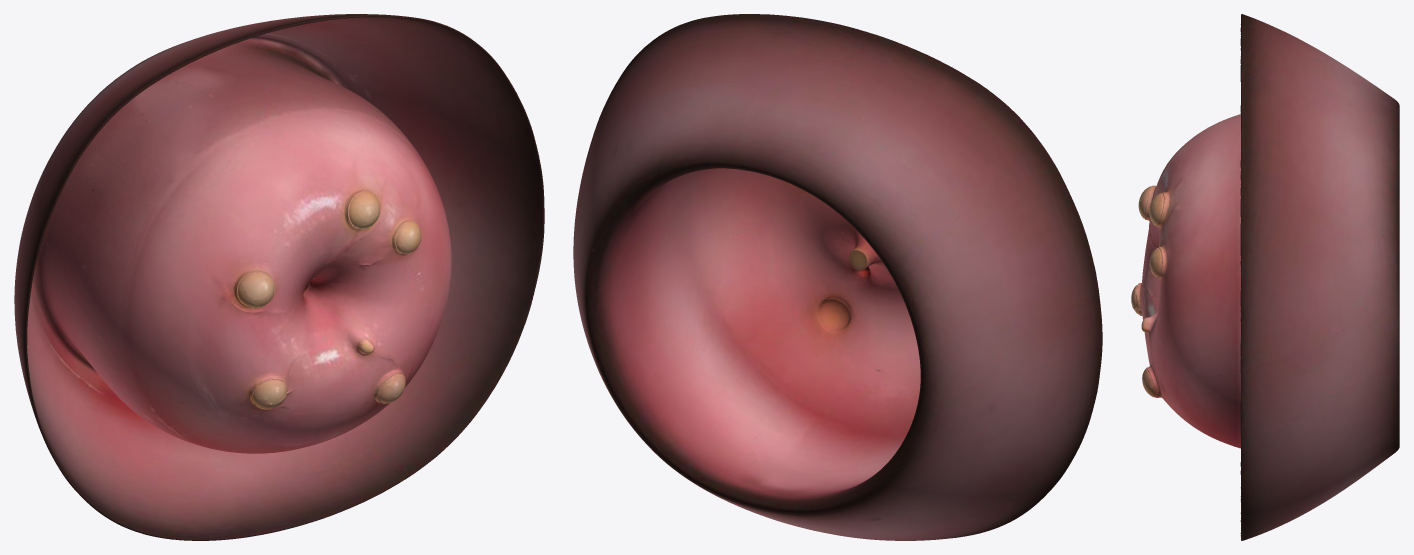
The picture shows the model from 3 angles, left to right: view 1: azimuth 30°, elevation 25°; view 2: azimuth 150°, elevation 25°; view 3: azimuth 270°, elevation 25°; orthographic projection. The views are drawn at different scales.
Parts seen in each view (by area): view 1: node_0; view 2: node_0; view 3: node_0.
Boxes of the visible parts, x1,y1,x2,y2 form: node_0: [14, 14, 544, 540]; node_0: [573, 14, 1102, 540]; node_0: [1131, 14, 1399, 540].
Bounding box in the file's own units: 1.18 × 1.09 × 0.5834.
Materials: 1 (1 with a texture image).
